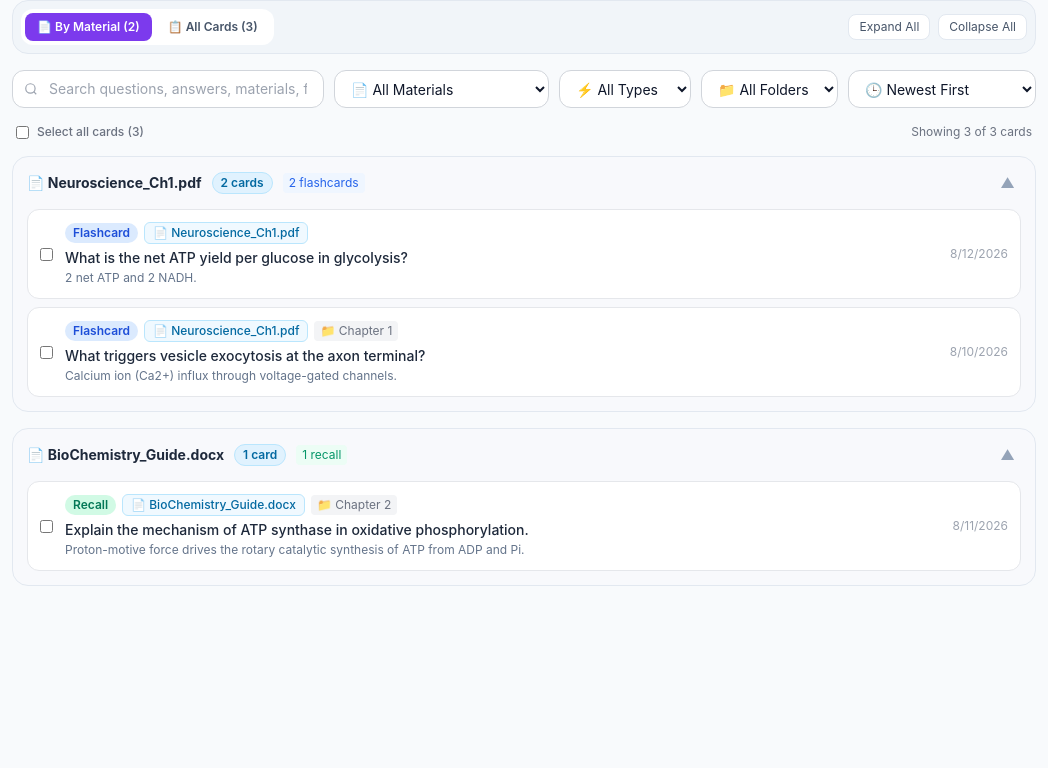
Scenario: CardBrowser - Material-Based Organization & Search › switches between "By Material" and "All Cards" flat list mode
Click the button "📋 All Cards (3)". click: (213, 27)
box: [156, 13, 270, 41]
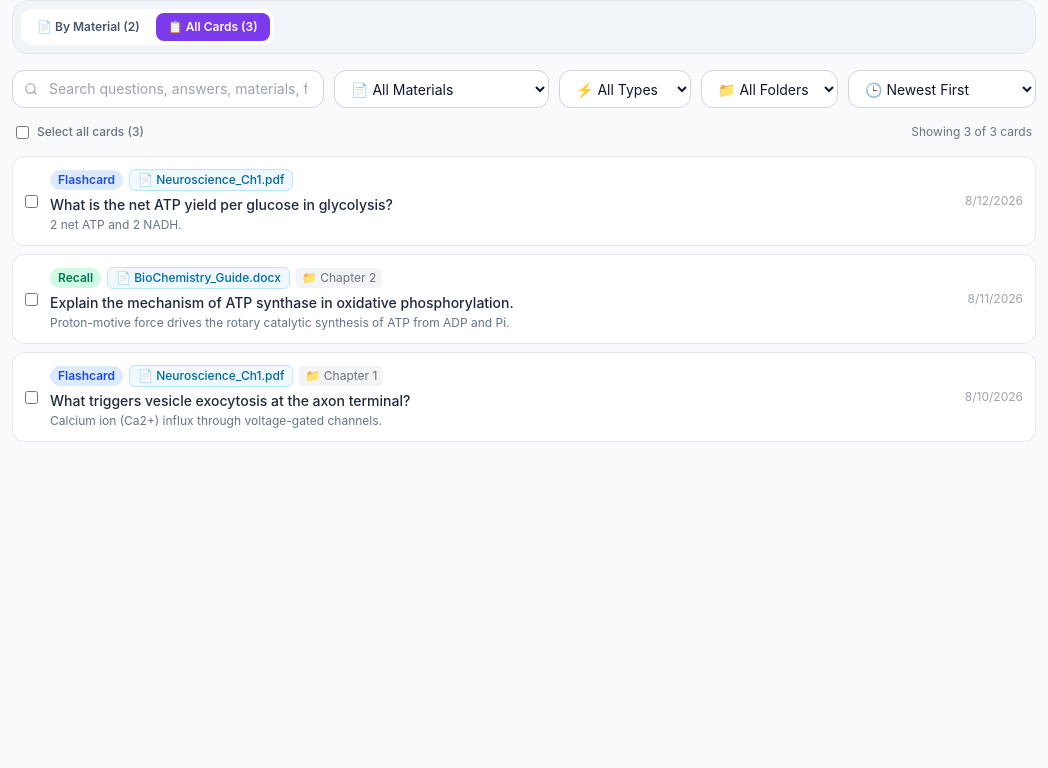
Now the text "What triggers vesicle exocytosis at the axon terminal?" is shown, box [50, 392, 410, 409]
Now the text "Explain the mechanism of ATP synthase" is shown, box [50, 294, 514, 311]
